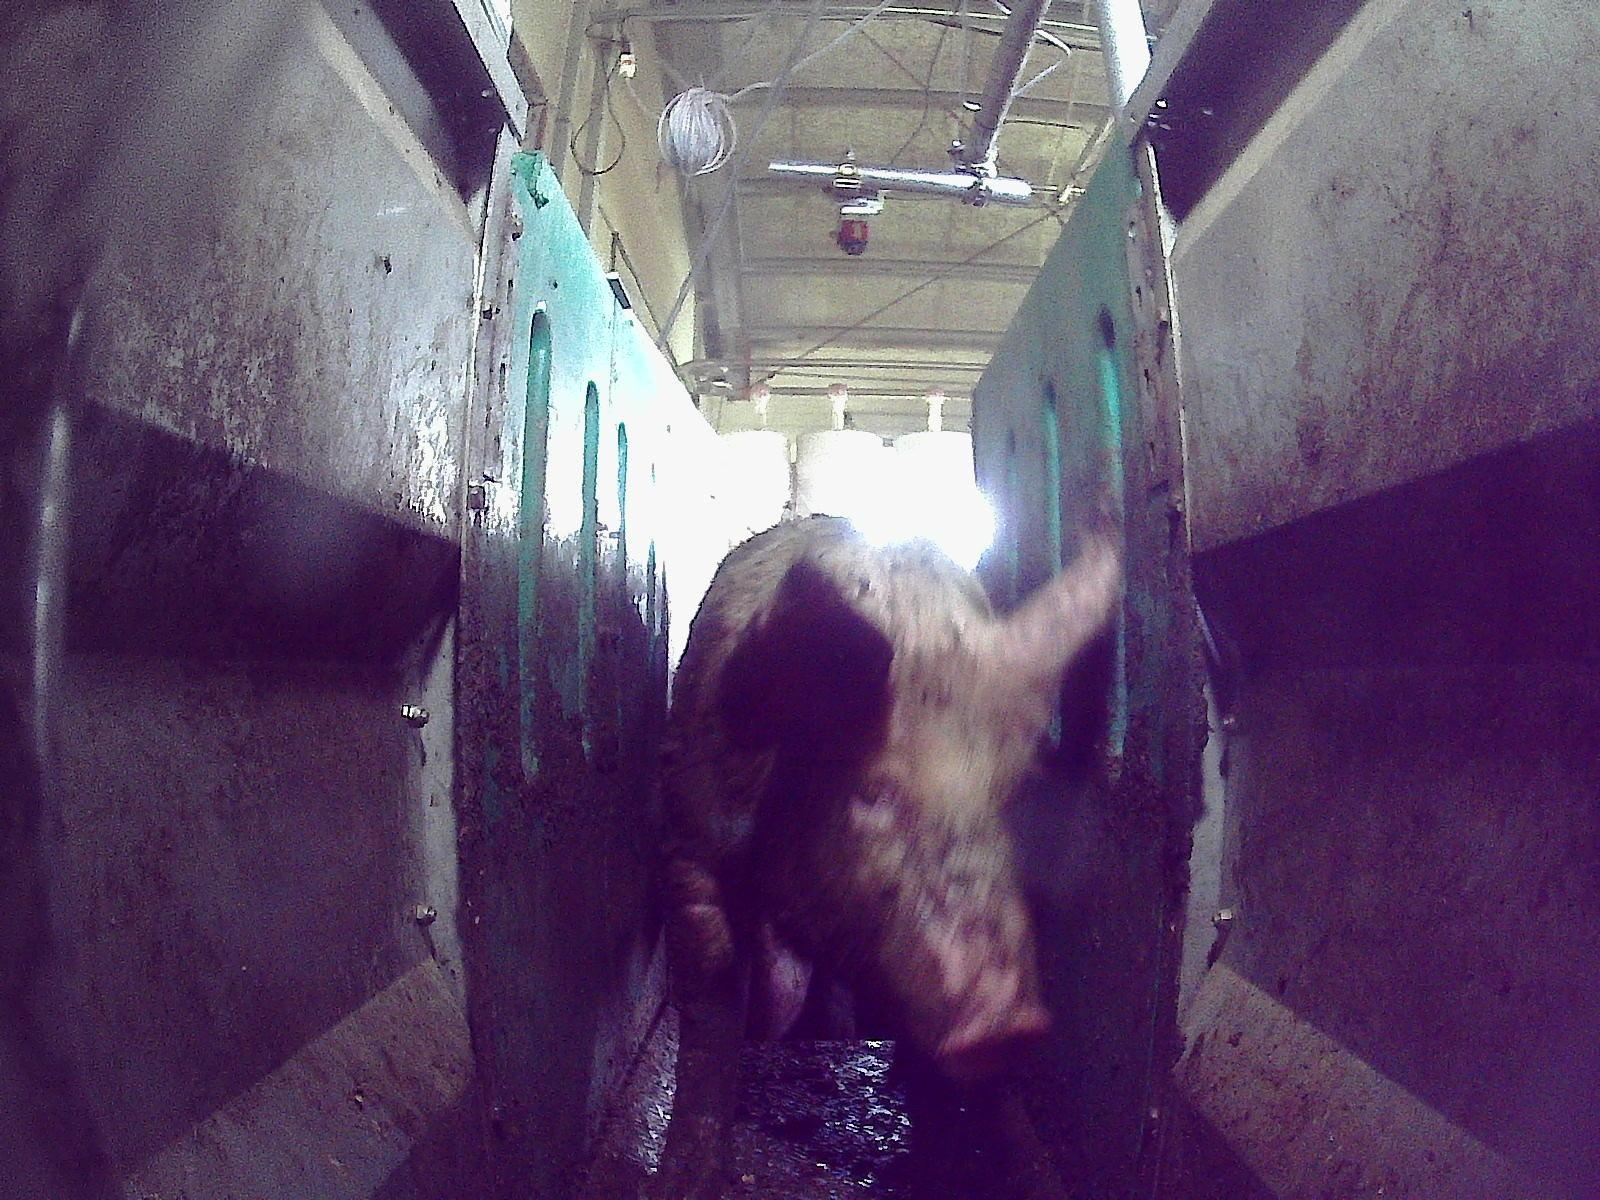Face: (780, 660, 1049, 1083)
